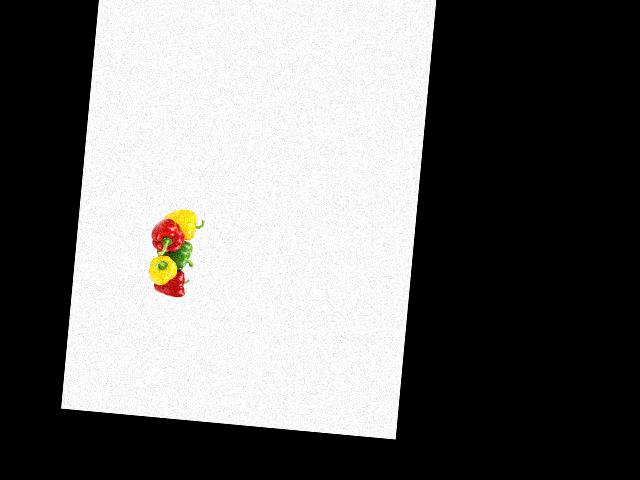bell_pepper: (157, 268, 191, 300)
